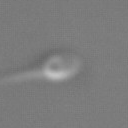normal: (1, 65, 43, 86)
